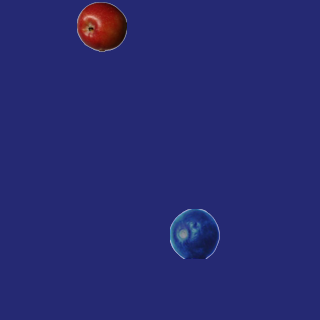Apple Braeburn: (76, 1, 126, 51)
Huckleberry: (169, 208, 219, 258)
